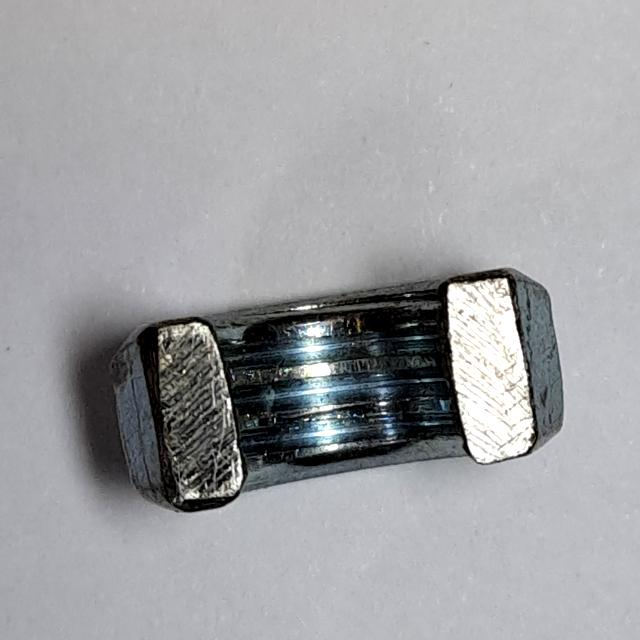Side-Fracture: (94, 261, 580, 524)
